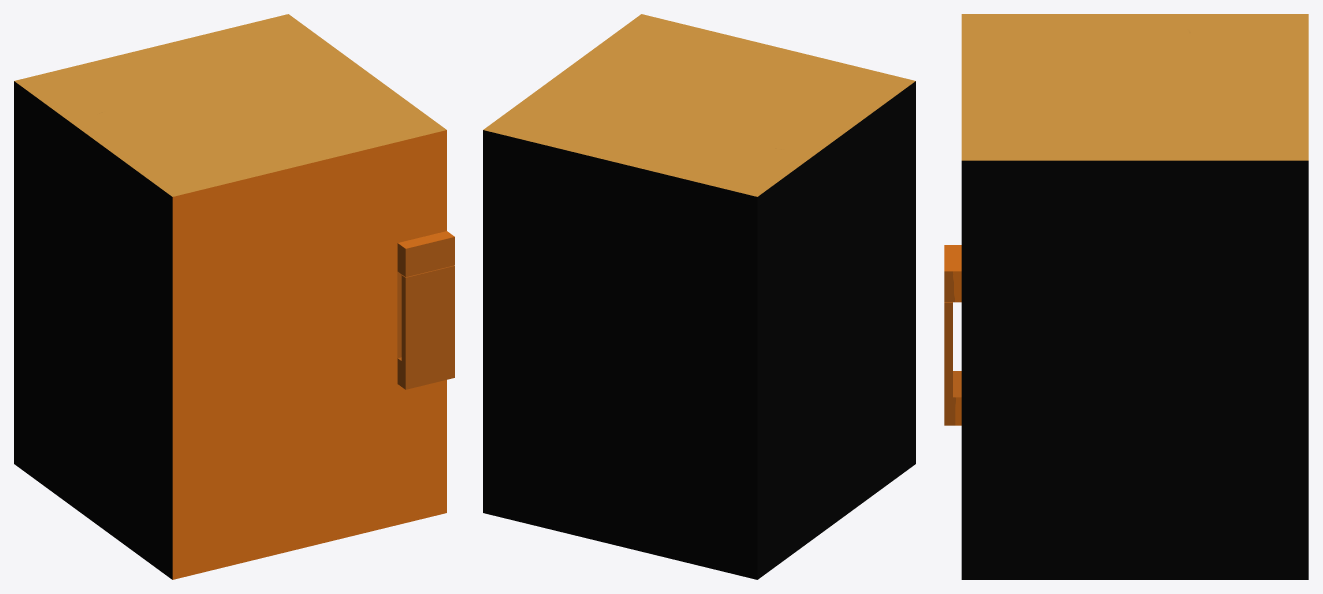
File: mueblecocina.FBX
3 renders of one model, left to right at view 1: azimuth 30°, elevation 25°; view 2: azimuth 150°, elevation 25°; view 3: azimuth 270°, elevation 25°, orthographic. The views are drawn at different scales.
Visible parts, largest first — view 1: Box001; view 2: Box001; view 3: Box001.
Part boxes in pixels (x1=…): Box001: x1=14, y1=14, x2=454, y2=579; Box001: x1=483, y1=14, x2=915, y2=579; Box001: x1=944, y1=14, x2=1308, y2=579.
Size of the model in its own units: 60 by 80 by 63.
